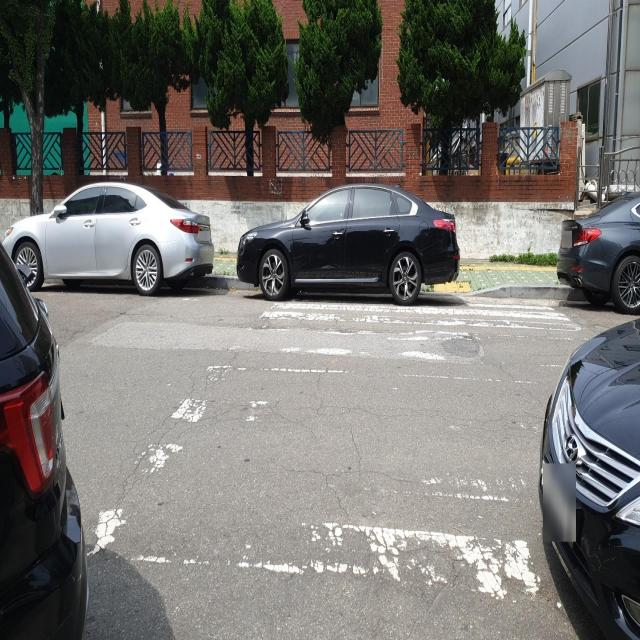횡단보도: (83, 294, 591, 612)
